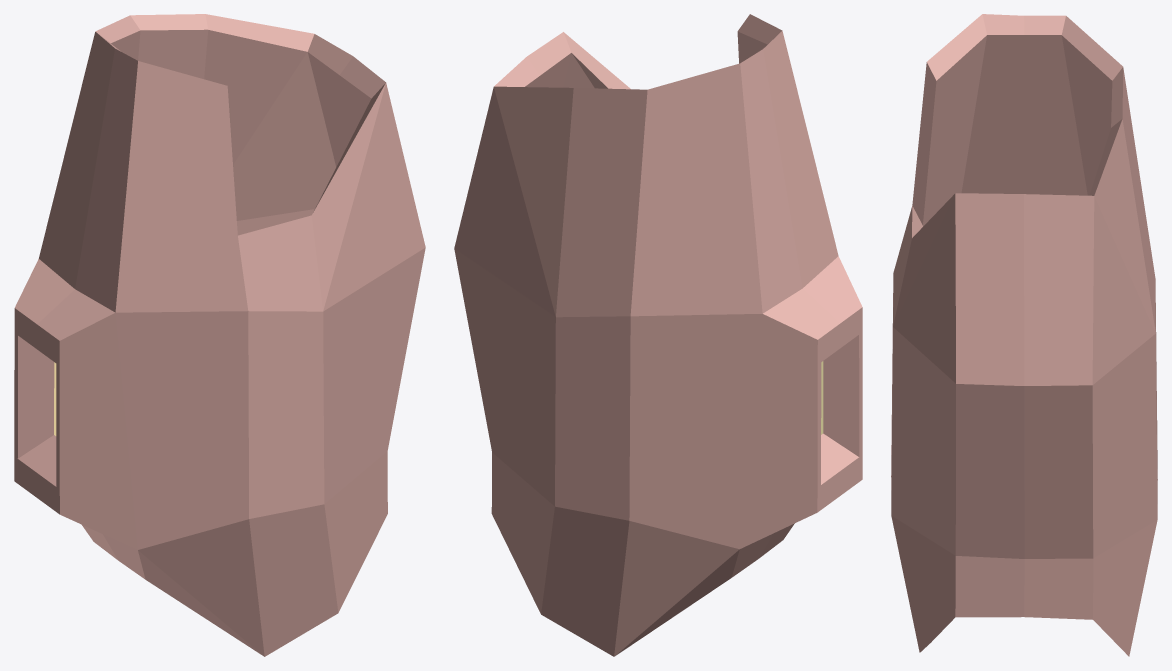
File: cb_upper_leg_2.gltf
3 views of the same model, side by side, from view 1: azimuth 30°, elevation 25°; view 2: azimuth 150°, elevation 25°; view 3: azimuth 270°, elevation 25° (orthographic). The views are drawn at different scales.
Visible parts, largest first — view 1: Cube.026; view 2: Cube.026; view 3: Cube.026.
Part boxes in pixels (x1,y1,x2,y2): Cube.026: (14, 14, 425, 656); Cube.026: (454, 14, 862, 656); Cube.026: (891, 14, 1157, 656).
Size of the model in its own units: 2.81 by 4.53 by 1.87.
